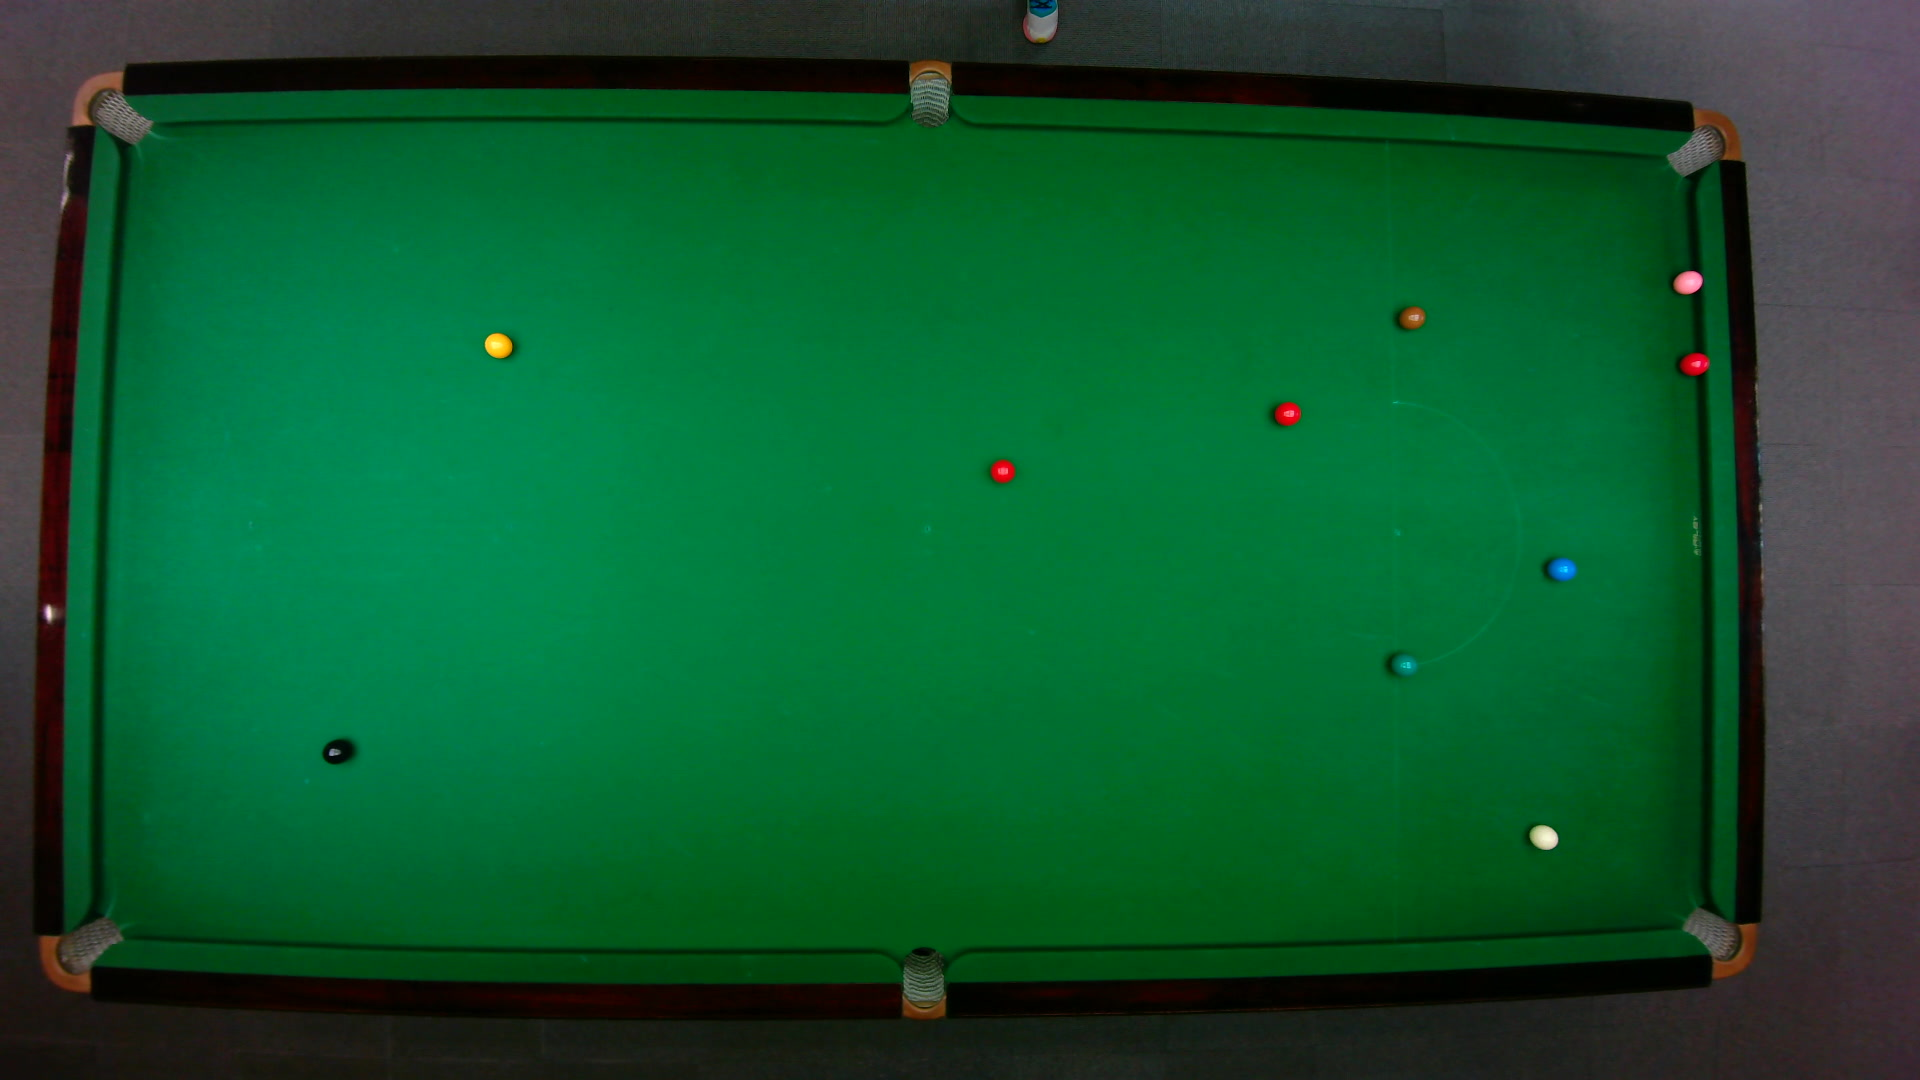bag: (37, 914, 125, 993), (69, 69, 153, 145), (1677, 905, 1756, 978), (1663, 108, 1741, 177), (901, 944, 944, 1021), (909, 58, 949, 128)
black: (320, 737, 352, 765)
blue: (1545, 556, 1577, 582)
brown: (1396, 305, 1425, 328)
green: (1389, 650, 1418, 676)
pink: (1669, 268, 1704, 295)
red: (1677, 349, 1712, 376), (1271, 400, 1302, 426), (988, 458, 1015, 483)
white: (1527, 822, 1559, 851)
yellow: (483, 328, 514, 359)
zone: (1390, 398, 1520, 669)
